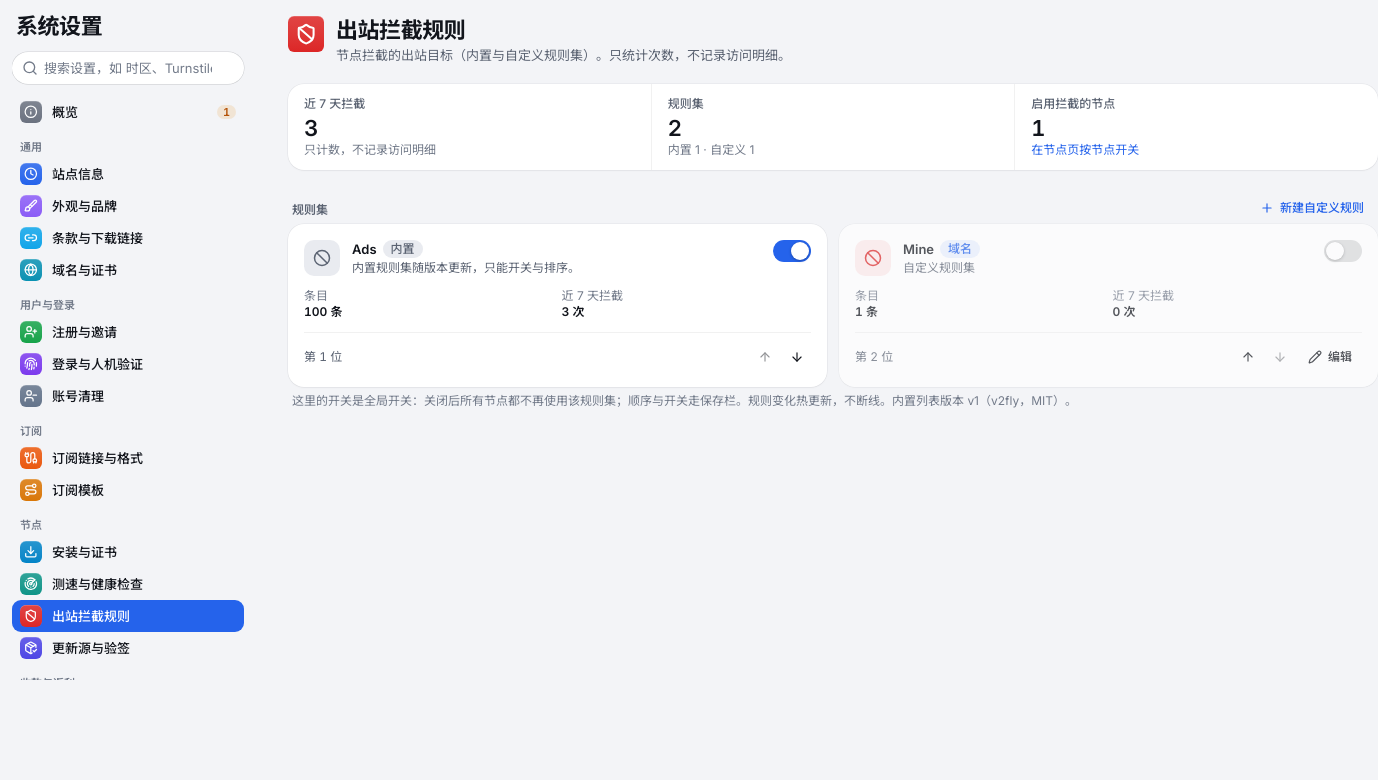
Test case: block switch + order
Later steps or results of the test are not shown.
Step 1. Click the switch named "Mine" → (1343, 251), box [1324,240,1362,262]
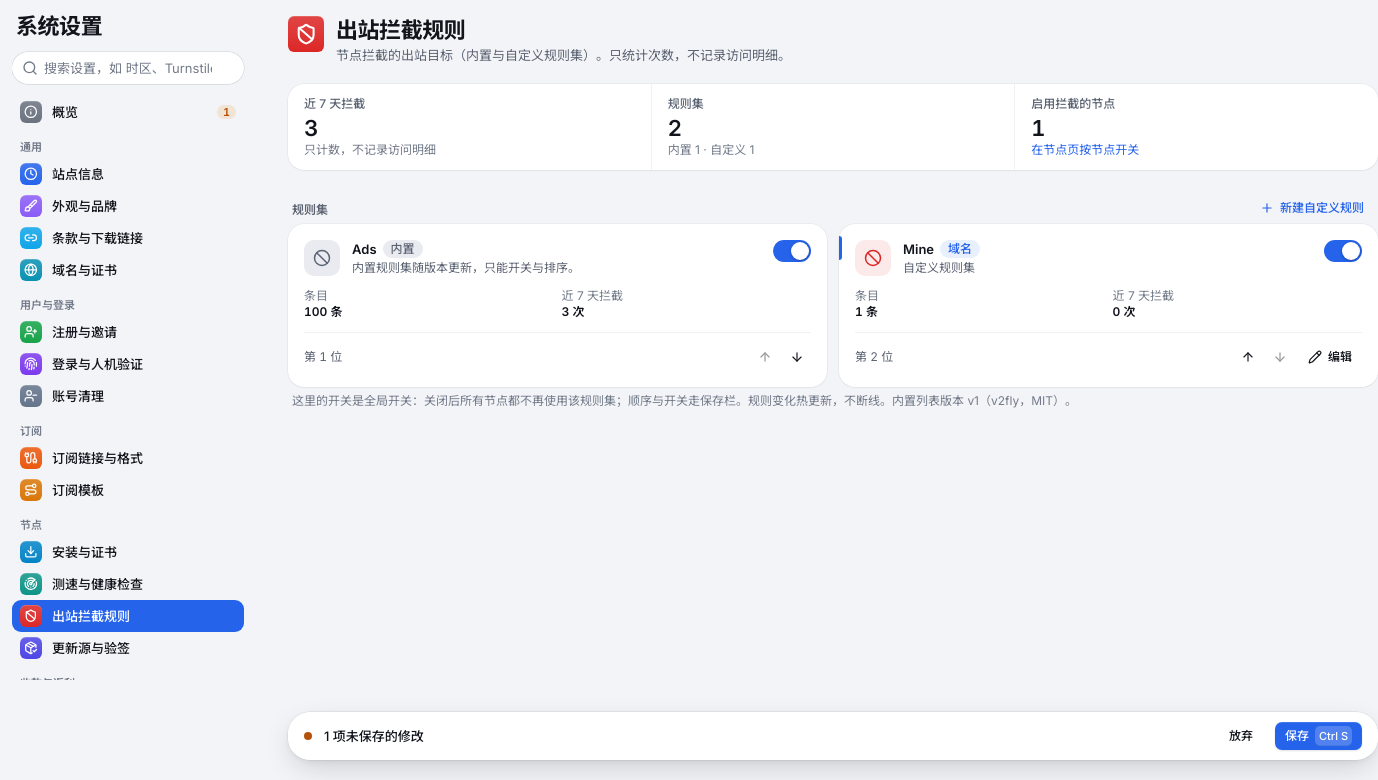
Step 2. Click the button named "上移 Mine" → (1248, 357), box [1234,343,1262,371]
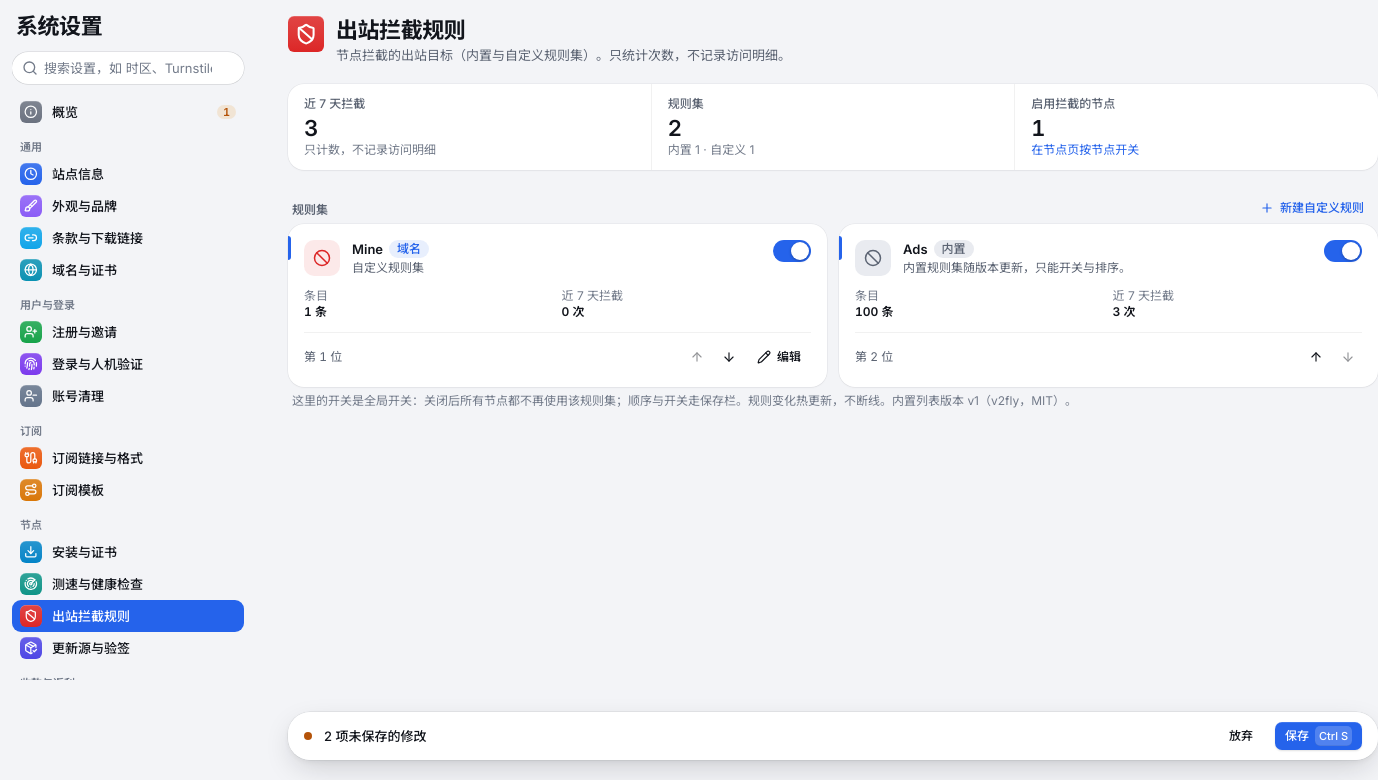
Expected: the element named "保存栏" shows "2 项未保存的修改", [324,728,426,744]
